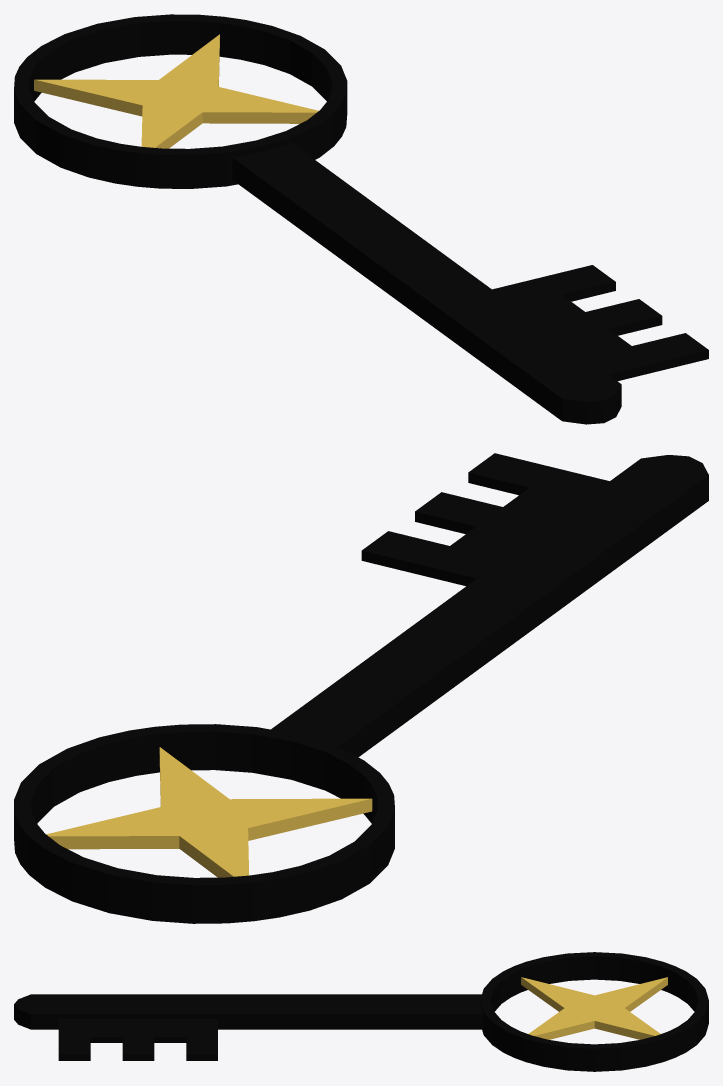
The model's file is clef_quizz.fbx.
3 views of the same model, one above another, from view 1: azimuth 30°, elevation 25°; view 2: azimuth 150°, elevation 25°; view 3: azimuth 270°, elevation 25° (orthographic). The views are drawn at different scales.
Visible parts, largest first — view 1: Clef; view 2: Clef; view 3: Clef.
Part boxes in pixels (bbox=[...]): Clef: bbox=[14, 14, 708, 424]; Clef: bbox=[14, 453, 708, 923]; Clef: bbox=[14, 952, 708, 1071].
Bounding box in the file's own units: 269 × 30 × 816.
